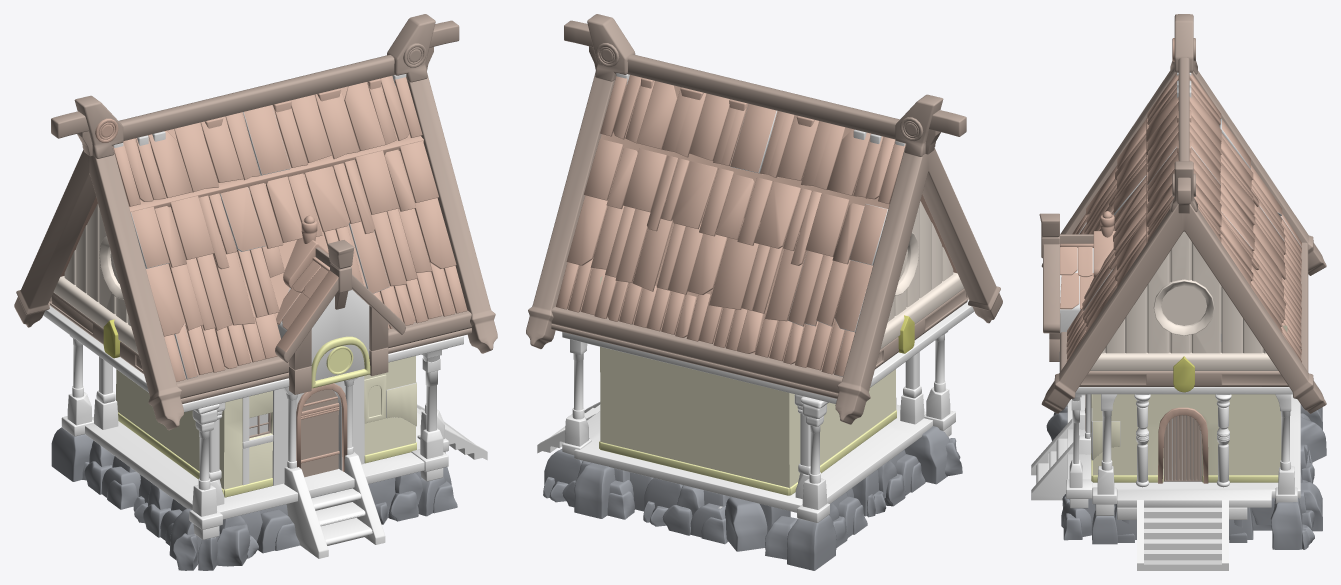
File: HouseFenMian.fbx
3 views of the same model, side by side, from view 1: azimuth 30°, elevation 25°; view 2: azimuth 150°, elevation 25°; view 3: azimuth 270°, elevation 25° (orthographic). The views are drawn at different scales.
Parts seen in each view (by area): view 1: Cube_039_Cube_135; view 2: Cube_039_Cube_135; view 3: Cube_039_Cube_135.
Part boxes in pixels (<box>): Cube_039_Cube_135: <box>14,14,497,570</box>; Cube_039_Cube_135: <box>526,14,1002,570</box>; Cube_039_Cube_135: <box>1031,14,1326,570</box>.
Size of the model in its own units: 1139 by 1156 by 795.
